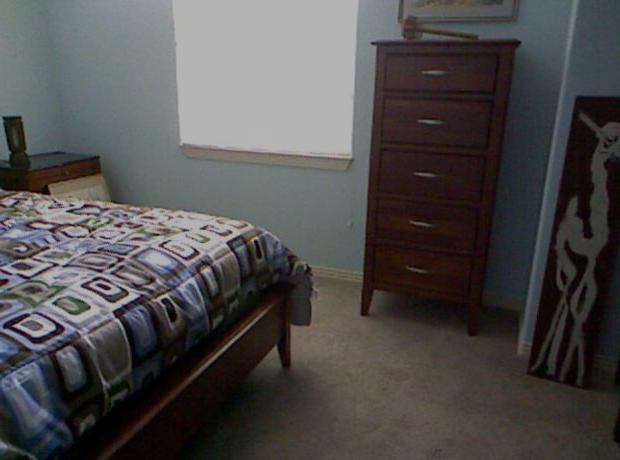Armario: (362, 38, 508, 332)
